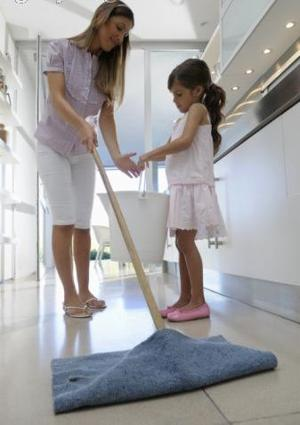person: (35, 1, 142, 319)
